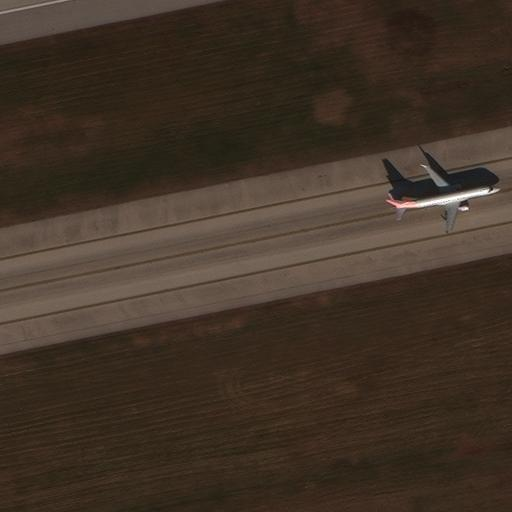Medium Civil Transport: (385, 164, 500, 232)
